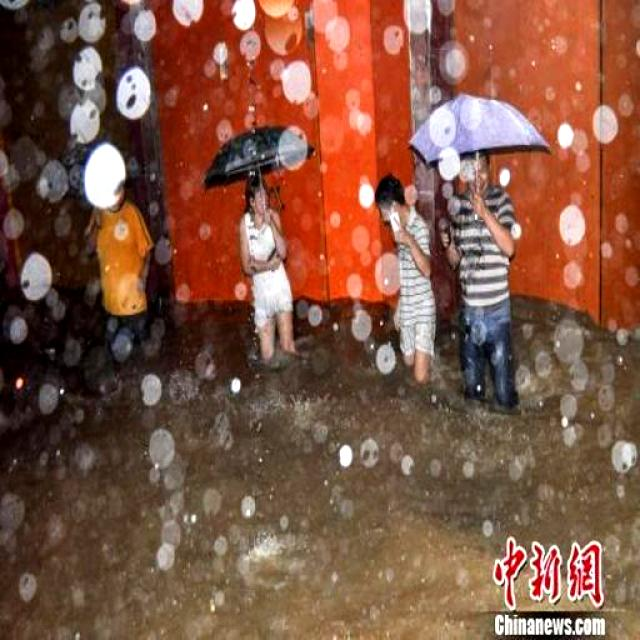civilian: (436, 145, 538, 431), (217, 164, 324, 383), (368, 169, 452, 417), (84, 165, 171, 381)
